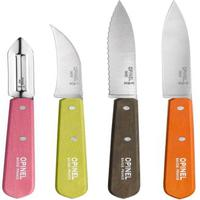knife: (98, 1, 147, 200), (42, 18, 94, 198), (156, 1, 199, 200), (3, 32, 39, 198)
